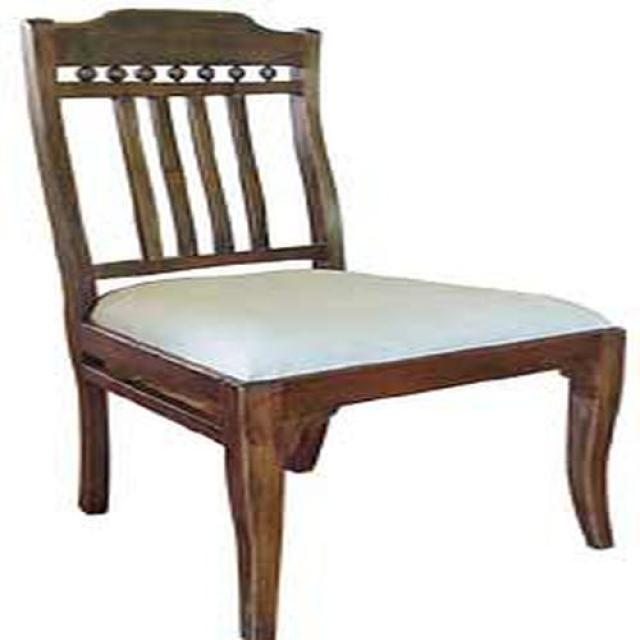chair: (18, 9, 628, 640)
